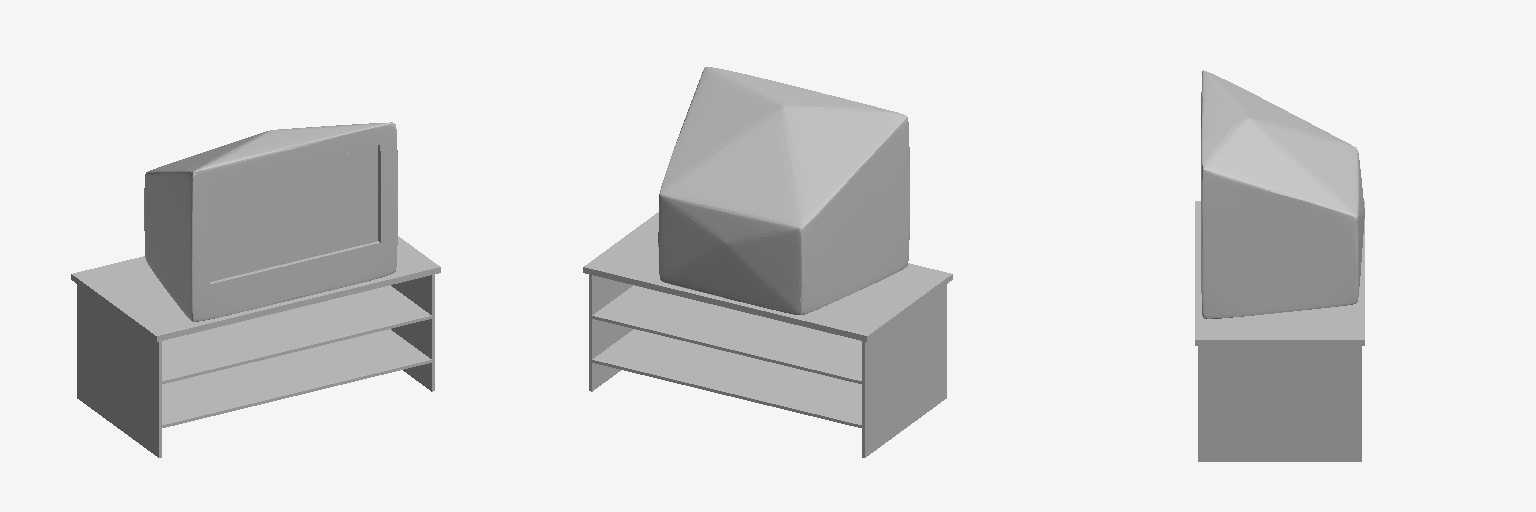
The model's file is tvUnit.obj.
3 views of the same model, side by side, from view 1: azimuth 30°, elevation 25°; view 2: azimuth 150°, elevation 25°; view 3: azimuth 270°, elevation 25° (orthographic).
Parts seen in each view (by area): view 1: TV, Etagere, Etagere_2, Montant_1, Etagere_1, Montant; view 2: TV, Etagere, Etagere_2, Etagere_1, Montant_1, Montant; view 3: TV, Montant, Etagere_1.
Boxes of the visible parts, box(x1,y1,x2,y2) form: TV: box(144, 122, 397, 321); Etagere: box(160, 329, 433, 427); Etagere_2: box(161, 285, 433, 383); Montant_1: box(77, 284, 161, 457); Etagere_1: box(71, 236, 440, 341); Montant: box(391, 274, 434, 391); TV: box(658, 67, 909, 314); Etagere: box(590, 329, 863, 428); Etagere_2: box(590, 285, 863, 384); Etagere_1: box(583, 212, 952, 341); Montant_1: box(862, 284, 946, 457); Montant: box(589, 274, 632, 391); TV: box(1201, 70, 1364, 318); Montant: box(1198, 346, 1361, 461); Etagere_1: box(1195, 201, 1364, 345).
Bounding box in the file's own units: 1 × 0.9334 × 0.52.